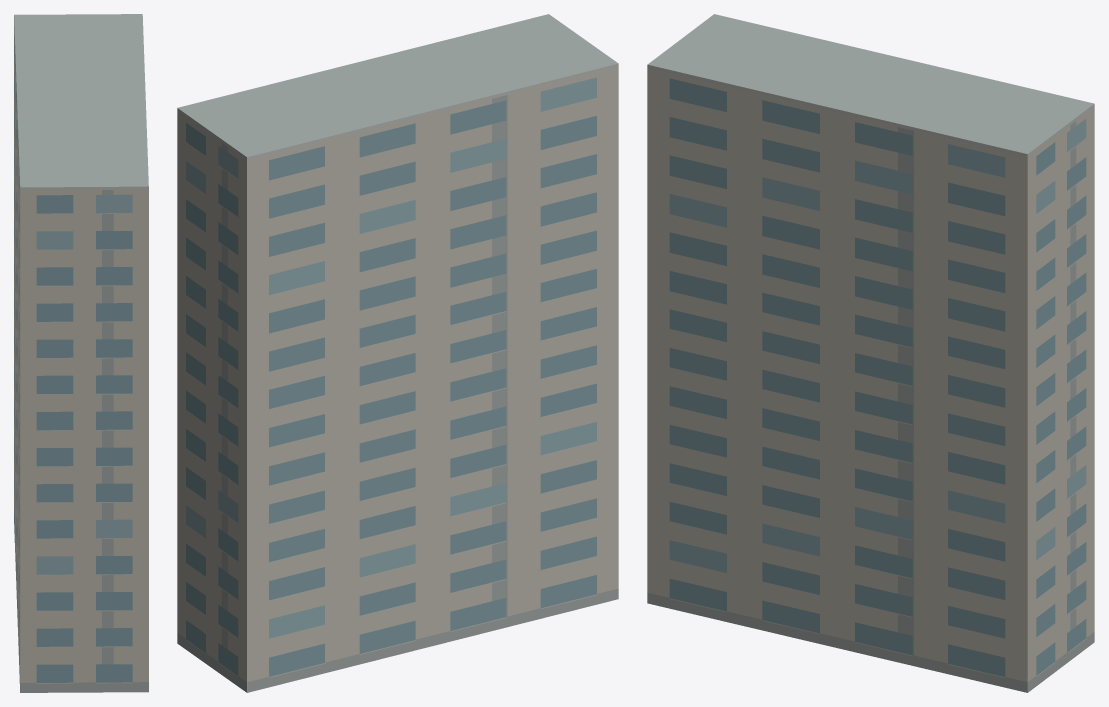
Rendered from residential-053456e2-cfd7-459a-a612-6483f80f2e82.glb.
3 renders of one model, left to right at view 1: azimuth 30°, elevation 25°; view 2: azimuth 150°, elevation 25°; view 3: azimuth 270°, elevation 25°, orthographic. The views are drawn at different scales.
Parts seen in each view (by area): view 1: residential-053456e2-cfd7-459a-a612-6483f80f2e82.tmp; view 2: residential-053456e2-cfd7-459a-a612-6483f80f2e82.tmp; view 3: residential-053456e2-cfd7-459a-a612-6483f80f2e82.tmp.
Part boxes in pixels (box(x1,y1,x2,y2)): residential-053456e2-cfd7-459a-a612-6483f80f2e82.tmp: box(14, 14, 148, 692); residential-053456e2-cfd7-459a-a612-6483f80f2e82.tmp: box(177, 14, 618, 692); residential-053456e2-cfd7-459a-a612-6483f80f2e82.tmp: box(647, 14, 1094, 692).
Bounding box in the file's own units: 21.77 × 39 × 29.34.
